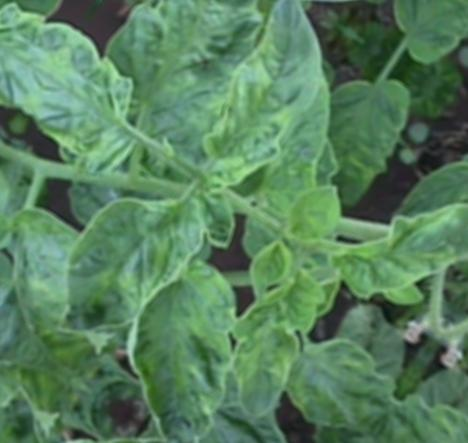Tomato leaf mosaic virus: (32, 152, 226, 370), (94, 245, 302, 443), (177, 0, 358, 201), (324, 142, 468, 340), (199, 257, 345, 427), (19, 23, 171, 179), (114, 0, 274, 117), (273, 321, 410, 443), (276, 171, 357, 258), (0, 196, 22, 267)
